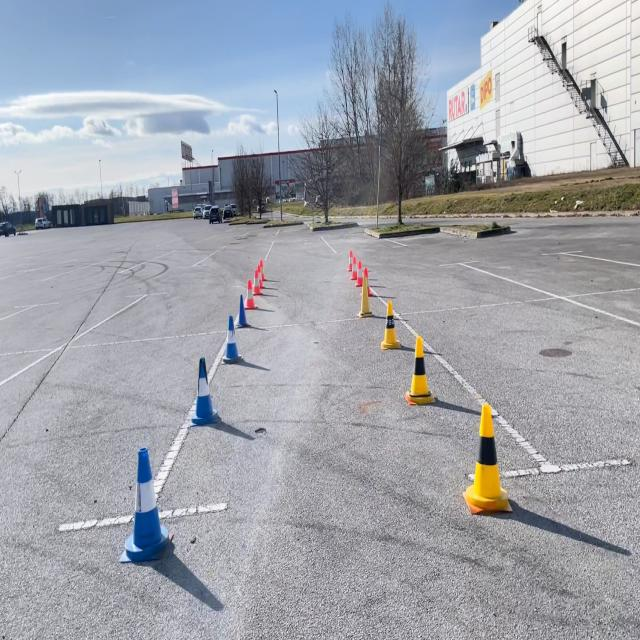blue_cone: (118, 445, 175, 565), (190, 357, 218, 427), (221, 316, 243, 364), (236, 294, 251, 328)
orange_cone: (245, 279, 258, 309), (364, 267, 374, 297), (253, 269, 263, 294), (355, 261, 363, 287), (257, 265, 266, 288), (350, 255, 358, 280), (347, 249, 353, 272), (260, 259, 266, 280)
yellow_cone: (462, 403, 513, 514), (404, 336, 436, 404), (380, 301, 401, 350), (358, 276, 374, 319)
